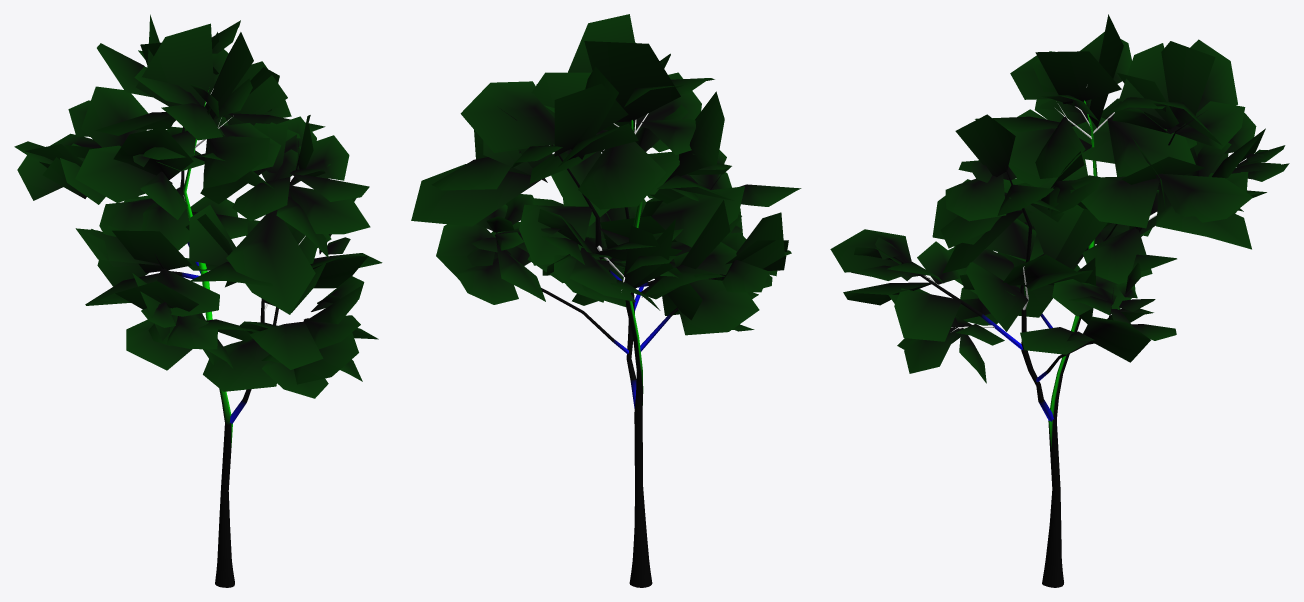
The model's file is Jatoba_Tree_Tess_afsTREE_xlprl_xlt_xlod00_xmvcb_xds10_singleSided.fbx.
The picture shows the model from 3 angles, left to right: view 1: azimuth 30°, elevation 25°; view 2: azimuth 150°, elevation 25°; view 3: azimuth 270°, elevation 25°; orthographic projection. The views are drawn at different scales.
Parts seen in each view (by area): view 1: leaf_104, leaf_180, leaf_140, trunk, leaf_160, leaf_001, leaf_125, leaf_116, leaf_014, leaf_198, leaf_138, leaf_212 (+44 smaller); view 2: leaf_173, leaf_180, leaf_221, leaf_100, trunk, leaf_026, leaf_187, leaf_103, leaf_119, leaf_198, leaf_078, leaf_113 (+31 smaller); view 3: leaf_113, leaf_229, trunk, leaf_147, leaf_179, leaf_059, leaf_187, leaf_118, leaf_100, leaf_143, leaf_115, leaf_106 (+38 smaller).
Part boxes in pixels (x1,y1,x2,y2): leaf_104: [226, 210, 315, 314]; leaf_180: [136, 23, 213, 106]; leaf_140: [75, 145, 172, 202]; trunk: [183, 90, 234, 587]; leaf_160: [203, 136, 269, 188]; leaf_001: [203, 338, 276, 391]; leaf_125: [81, 86, 148, 147]; leaf_116: [289, 185, 370, 234]; leaf_014: [249, 322, 323, 369]; leaf_198: [113, 127, 193, 179]; leaf_138: [112, 230, 191, 272]; leaf_212: [189, 205, 235, 265]; leaf_173: [460, 81, 554, 152]; leaf_180: [584, 41, 680, 122]; leaf_221: [578, 141, 666, 209]; leaf_100: [411, 164, 540, 226]; trunk: [623, 120, 652, 587]; leaf_026: [678, 279, 759, 335]; leaf_187: [554, 83, 628, 156]; leaf_103: [640, 186, 744, 247]; leaf_119: [519, 204, 592, 265]; leaf_198: [665, 91, 724, 181]; leaf_078: [436, 224, 510, 279]; leaf_113: [432, 151, 520, 190]; leaf_113: [1155, 173, 1252, 222]; leaf_229: [1107, 117, 1195, 176]; trunk: [1042, 100, 1097, 587]; leaf_147: [1081, 176, 1159, 228]; leaf_179: [1035, 51, 1121, 103]; leaf_059: [894, 288, 961, 341]; leaf_187: [1161, 41, 1215, 127]; leaf_118: [1082, 227, 1152, 284]; leaf_100: [1156, 184, 1251, 249]; leaf_143: [955, 114, 1015, 176]; leaf_115: [945, 174, 1006, 221]; leaf_106: [966, 262, 1028, 331].
Size of what is drawn, in the model's own units: 820 by 1148 by 1523.
